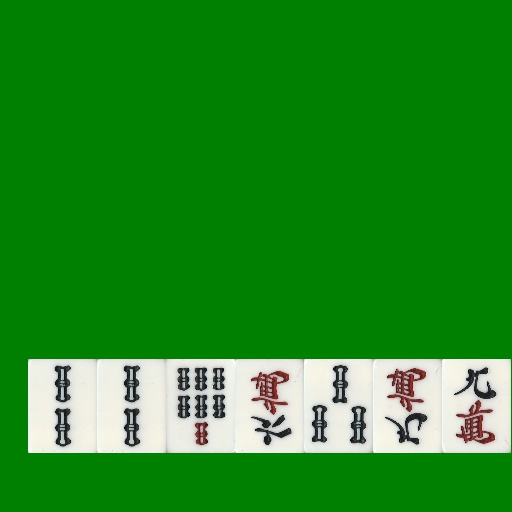2s: (28, 359, 97, 453), (97, 359, 166, 453)
3s: (304, 359, 373, 453)
6m: (235, 359, 304, 453)
7s: (166, 359, 235, 453)
9m: (373, 359, 442, 453), (442, 359, 511, 453)
